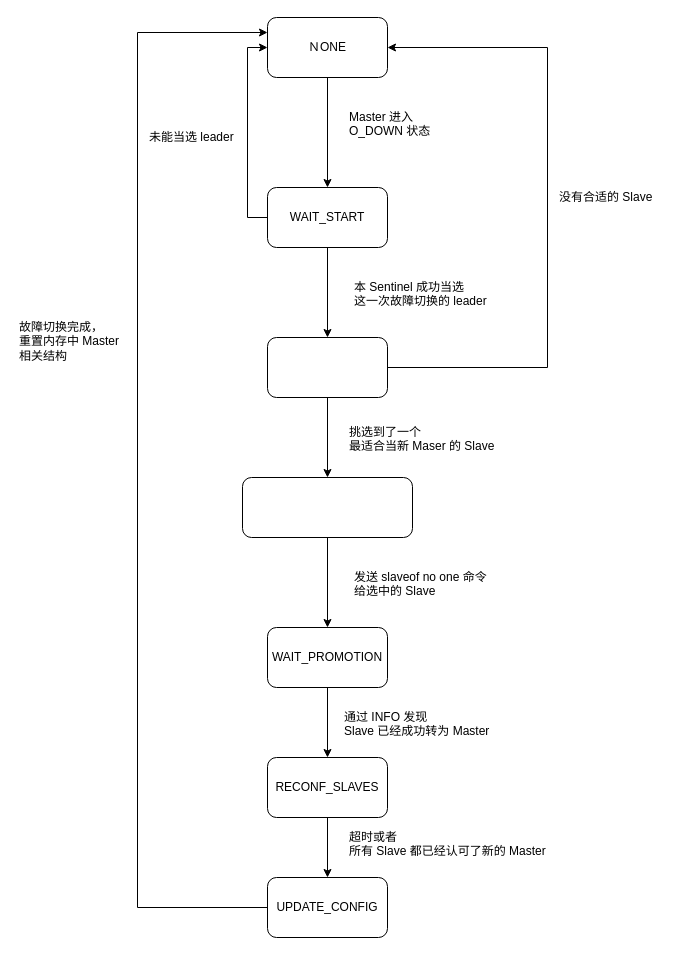
This 684x955 diagram has some shape labels left out. The shapes that lost their labels are listed below. From the top down, each one's centre as x and y in pixels, then its label:
At pixel 327 367: "SELECT_SLAVE".
At pixel 327 507: "SEND_SLAVEOF_NOONE".
